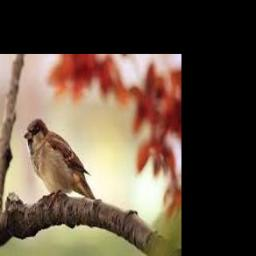Sparrow: (24, 119, 96, 200)
